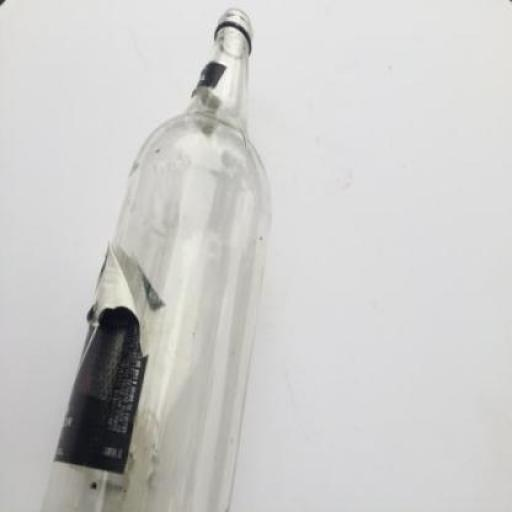glass: (41, 10, 272, 511)
